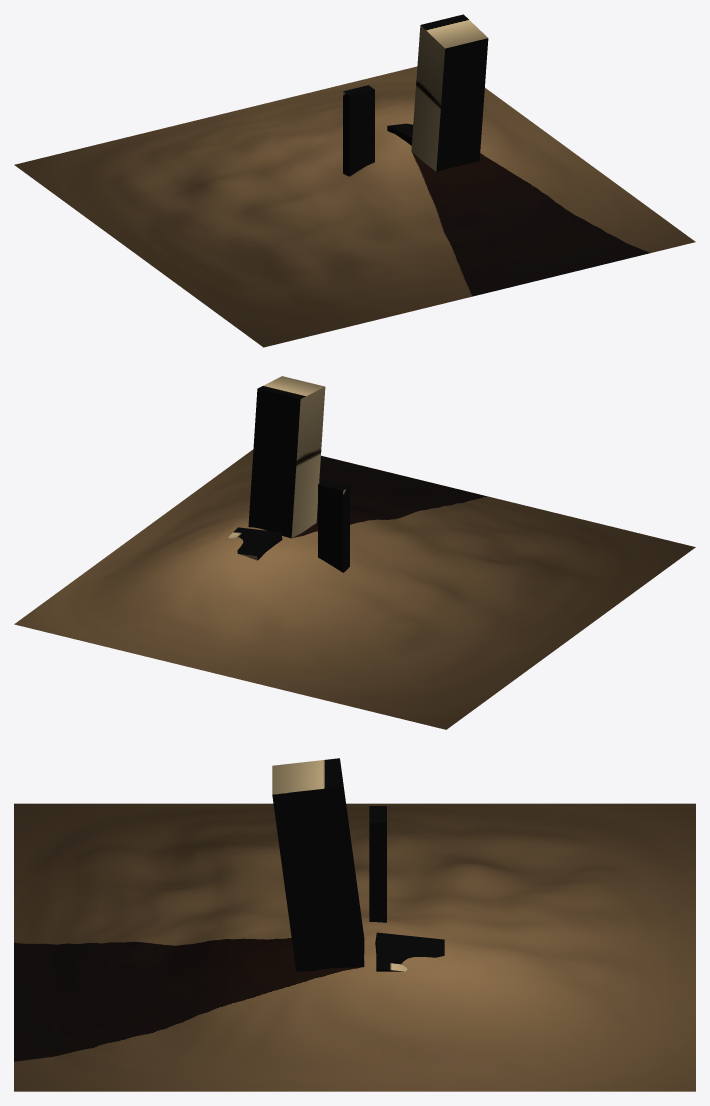
The model's file is landscape2.dae.
3 renders of one model, top to bottom at view 1: azimuth 30°, elevation 25°; view 2: azimuth 150°, elevation 25°; view 3: azimuth 270°, elevation 25°, orthographic. The views are drawn at different scales.
Parts seen in each view (by area): view 1: Landscape, Tower; view 2: Landscape, Tower; view 3: Landscape, Tower.
Boxes of the visible parts, x1,y1,x2,y2 form: Landscape: (14,66,695,347); Tower: (343,14,488,176); Landscape: (14,449,695,729); Tower: (228,376,349,572); Landscape: (14,803,695,1091); Tower: (272,758,444,971).
Size of the model in its own units: 20 by 20 by 7.97.
2 materials, 2 textured.
